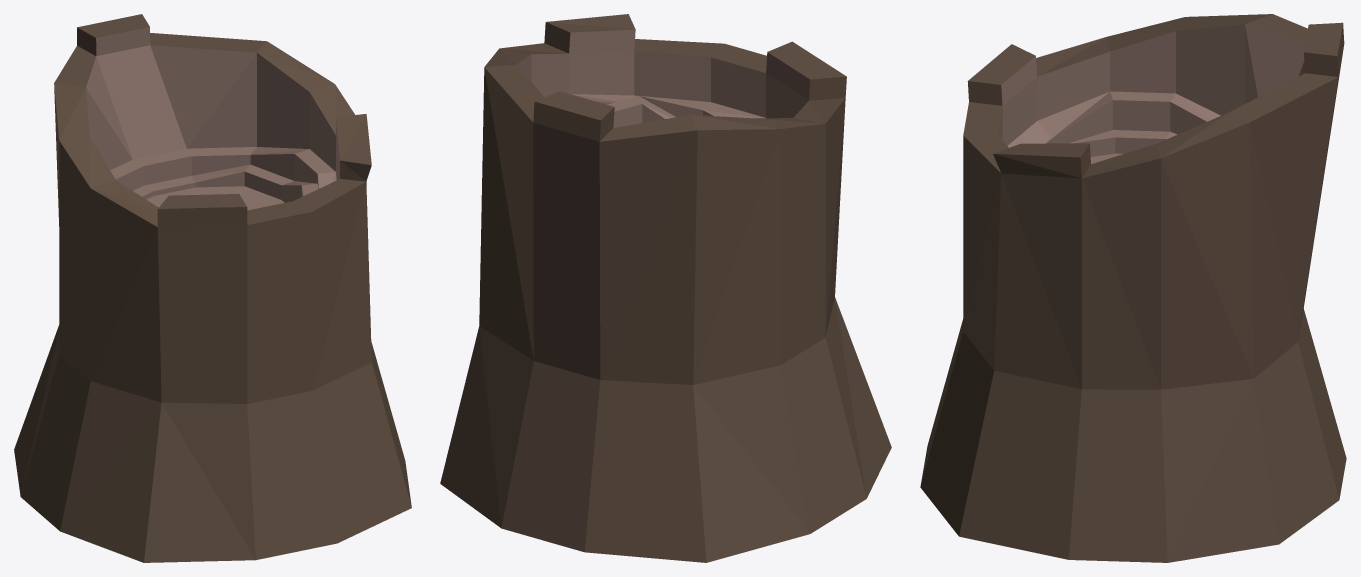
File: Stump2.fbx
The picture shows the model from 3 angles, left to right: view 1: azimuth 30°, elevation 25°; view 2: azimuth 150°, elevation 25°; view 3: azimuth 270°, elevation 25°; orthographic projection. The views are drawn at different scales.
Visible parts, largest first — view 1: Stump2; view 2: Stump2; view 3: Stump2.
Part boxes in pixels (left/top/right/bottom): Stump2: left=14, top=14, right=411, bottom=562; Stump2: left=440, top=14, right=891, bottom=562; Stump2: left=920, top=14, right=1346, bottom=562.
Bounding box in the file's own units: 429 × 476 × 429.
